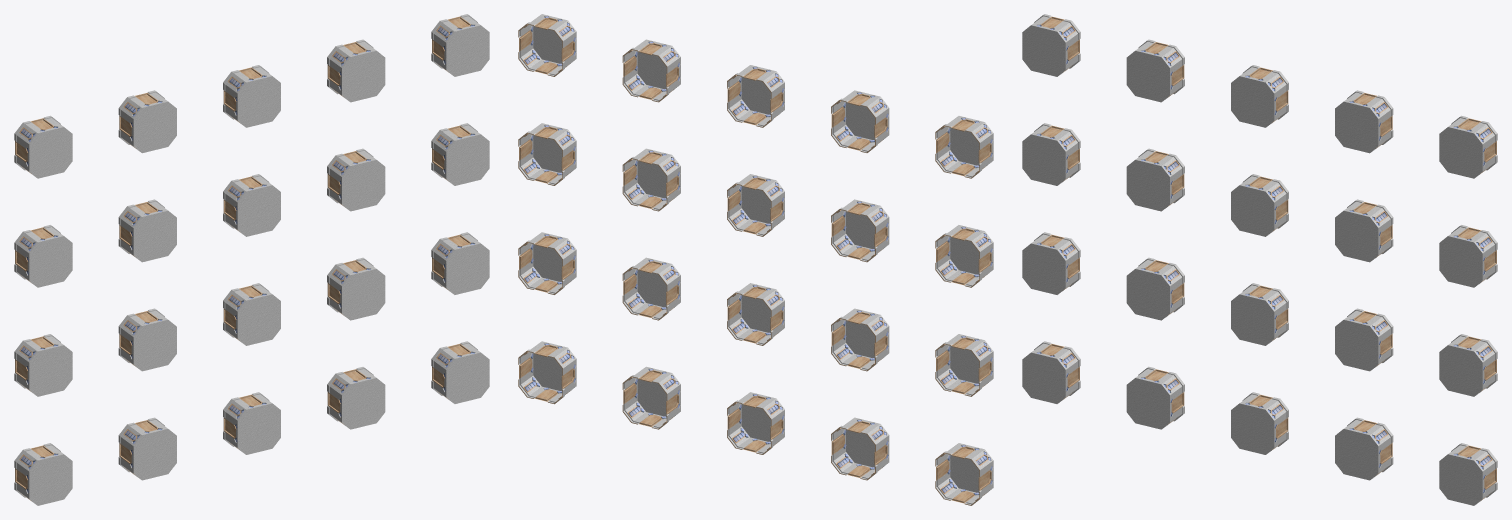
File: module 0.obj
3 renders of one model, left to right at view 1: azimuth 30°, elevation 25°; view 2: azimuth 150°, elevation 25°; view 3: azimuth 330°, elevation 25°, orthographic.
Parts seen in each view (by area): view 1: ground_floor_all; view 2: ground_floor_all; view 3: ground_floor_all.
Part boxes in pixels (x1,y1,x2,y2): ground_floor_all: (14,14,489,505); ground_floor_all: (518,14,993,505); ground_floor_all: (1022,14,1497,505).
Bounding box in the file's own units: 1.59 × 1.23 × 0.0849.
